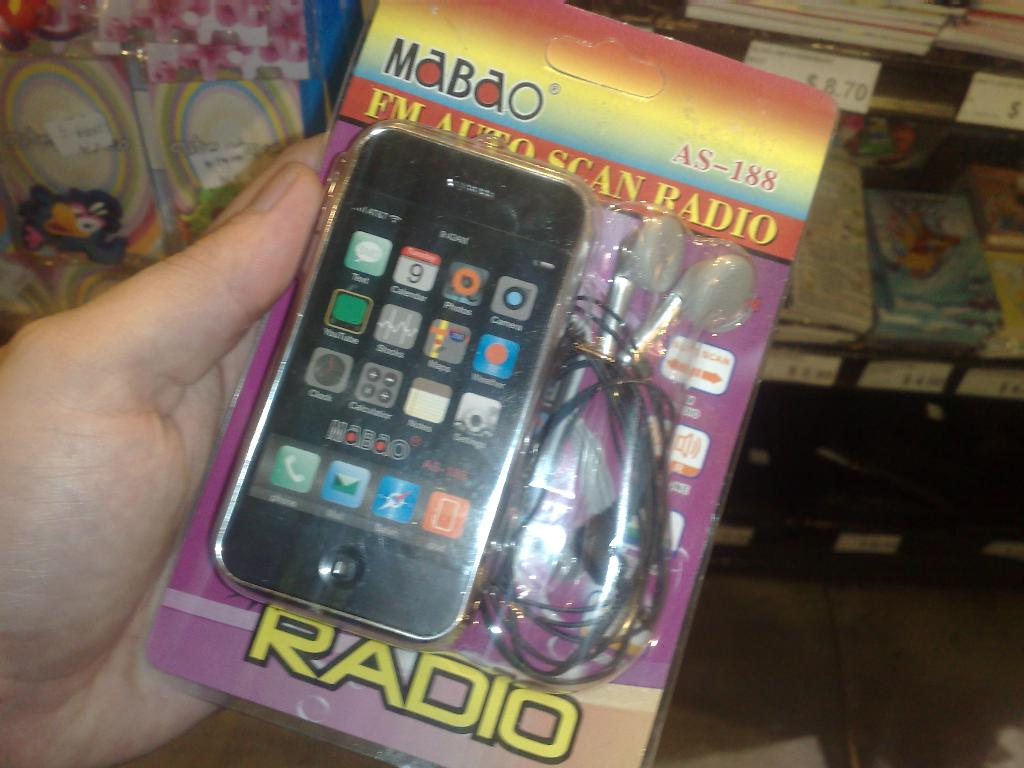Mobile-phone: (212, 121, 590, 646)
